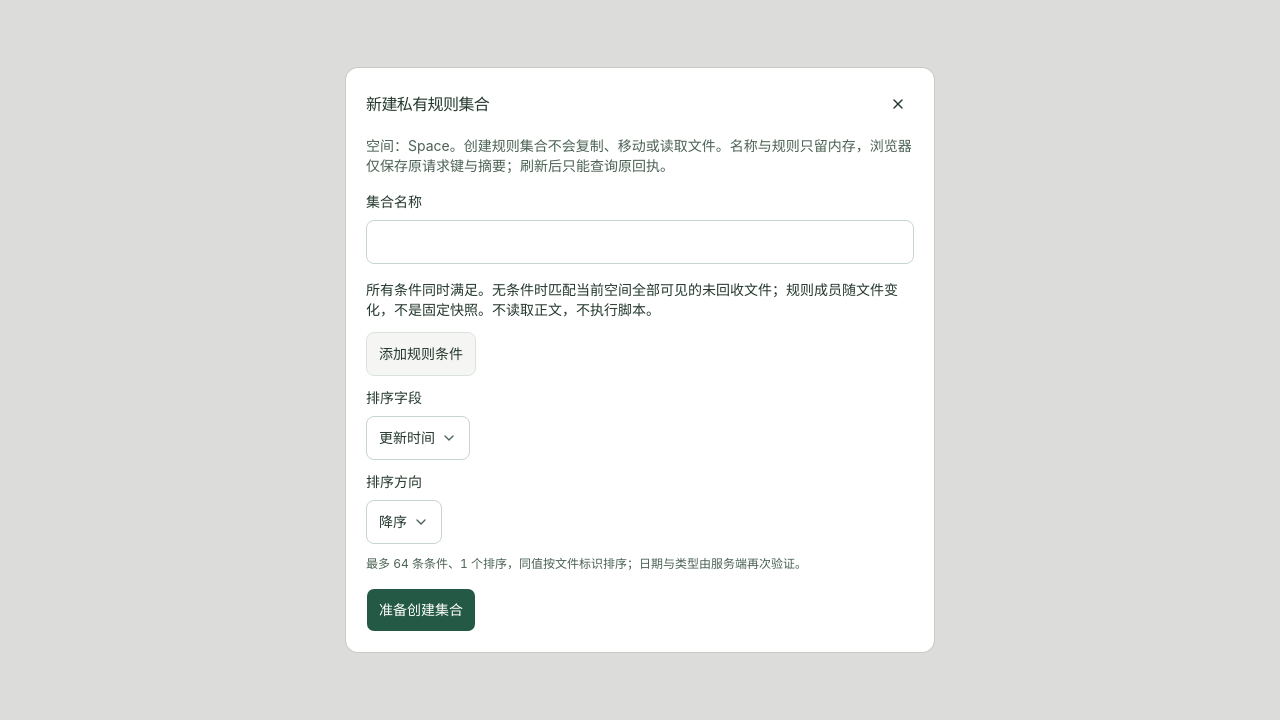
Test: empty rule explicitly confirms all-space dynamic membership without a query
The image size is (1280, 720).
In the field labelled "集合名称": coordinates (640, 242) [366,220,914,264], type "All visible"
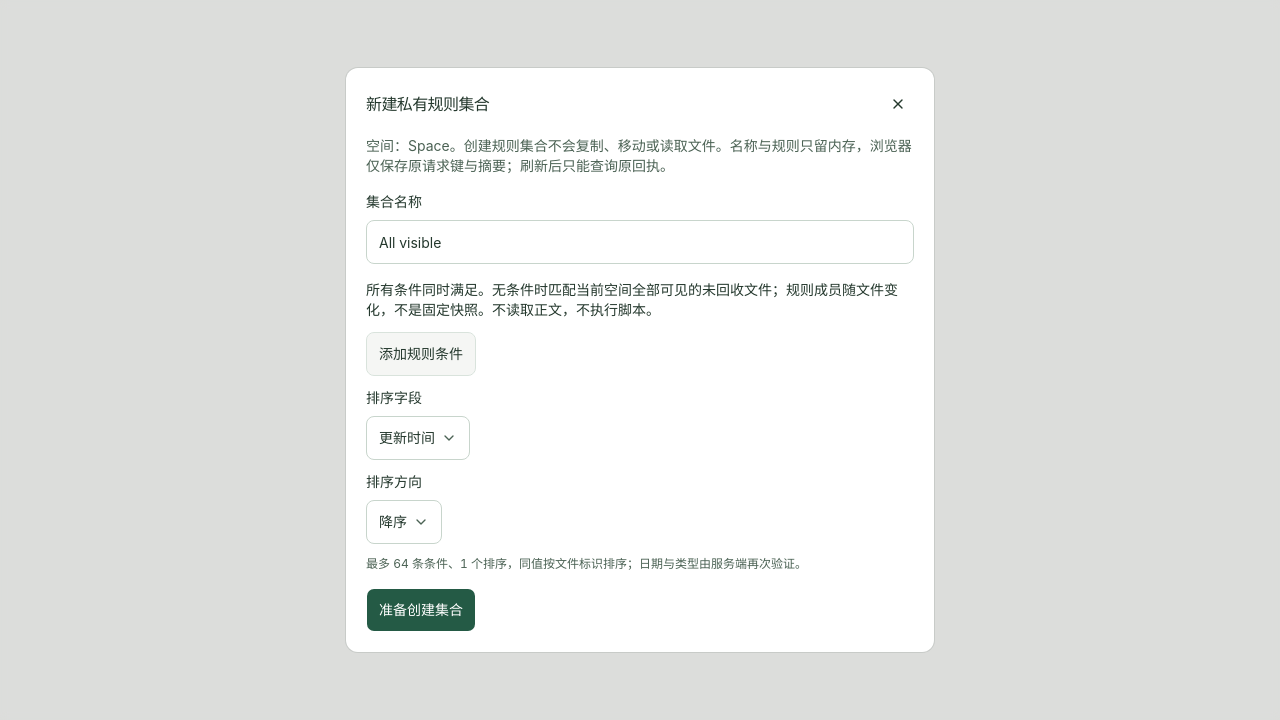
Click the button "准备创建集合": coordinates (421, 610) [366,588,476,632]
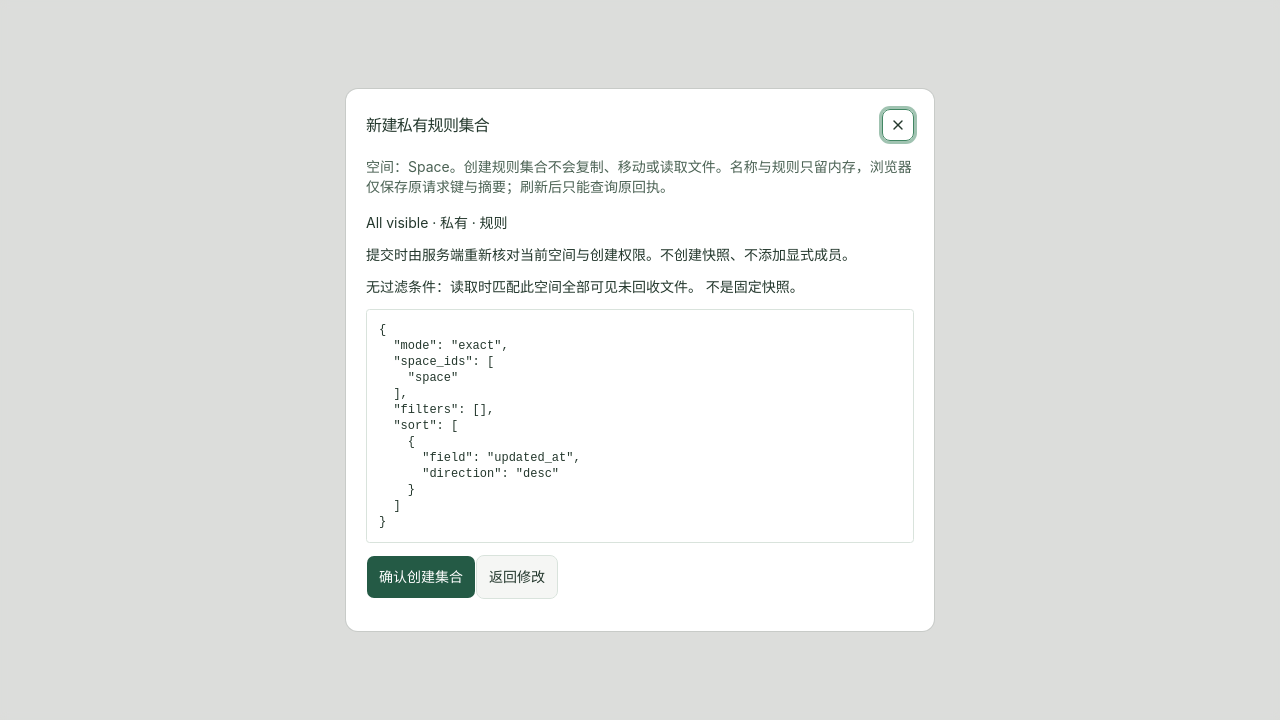
Now the text "无过滤条件：读取时匹配此空间全部可见未回收文件。 不是固定快照。" is shown, box [366,278,804,295]
